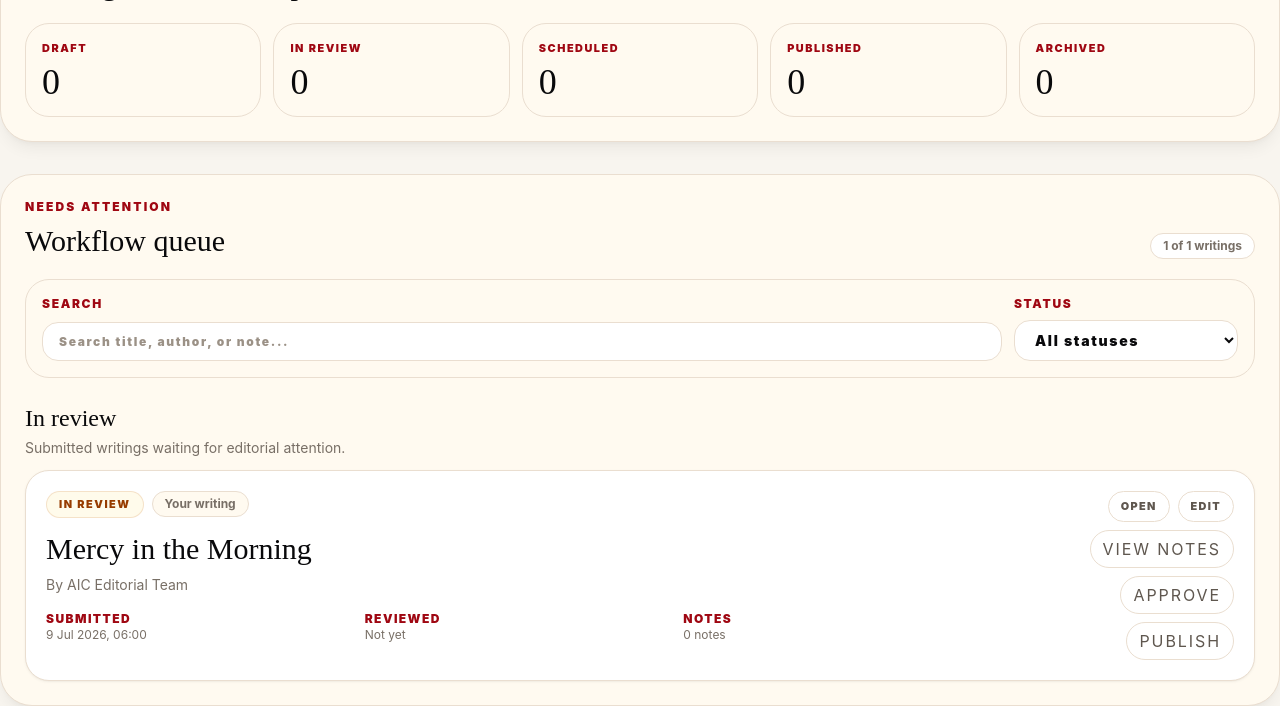
Scenario: WritingEditorialPage › shows an empty notes state in the editorial notes modal
(page scrolled)
Click the button "View notes": (1162, 549) [1090, 530, 1234, 568]
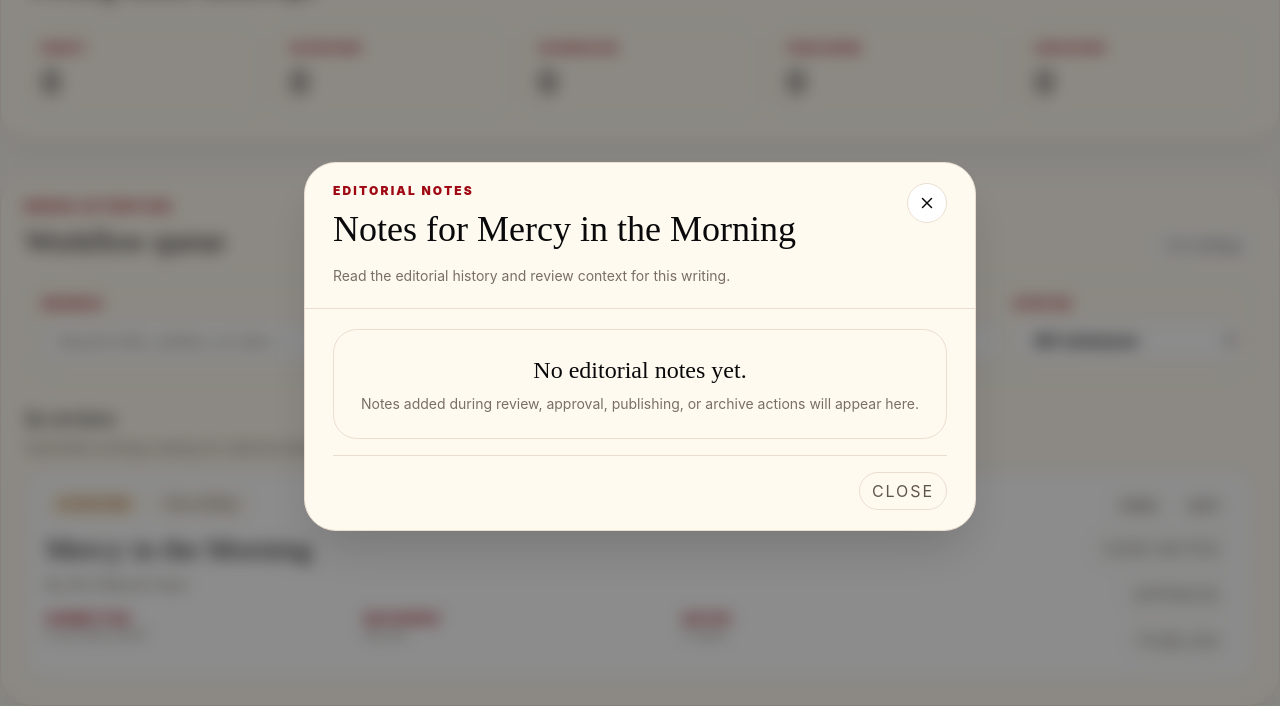
expect the text "No editorial notes yet." is shown: met, box [533, 356, 747, 382]
